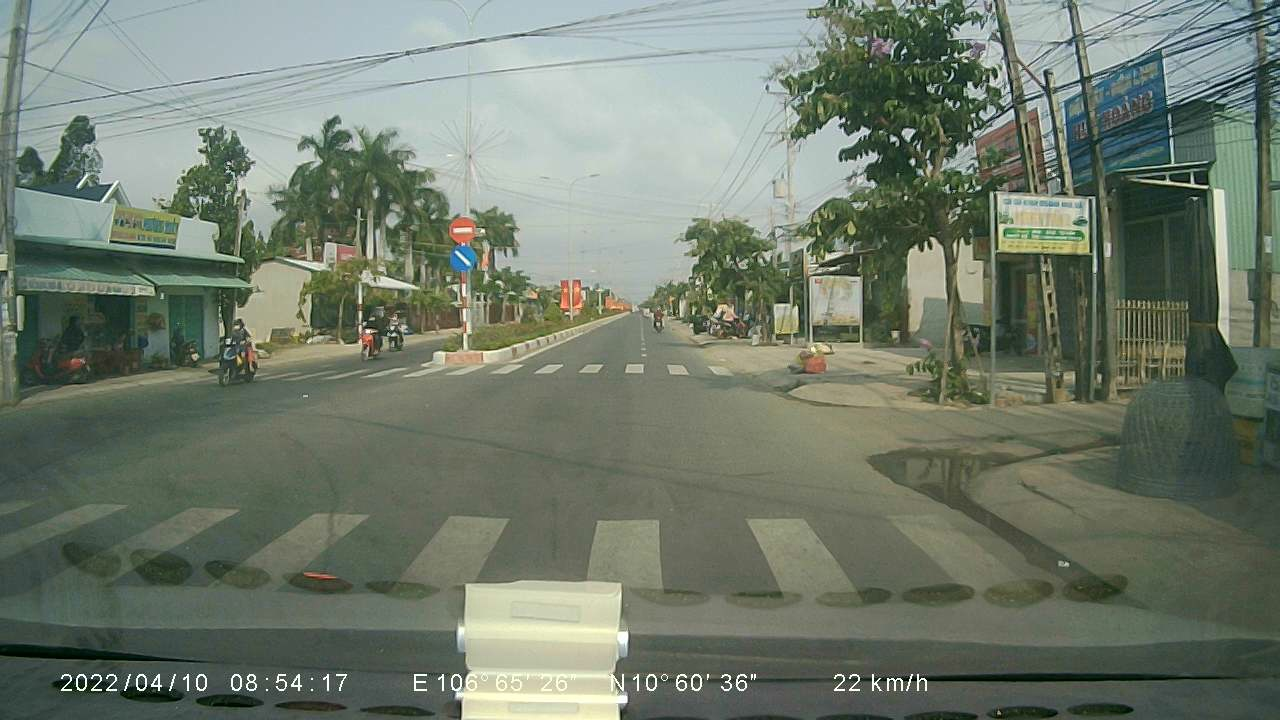Cam di nguoc chieu: (446, 214, 475, 244)
Huong di phai re phai: (447, 241, 479, 273)
